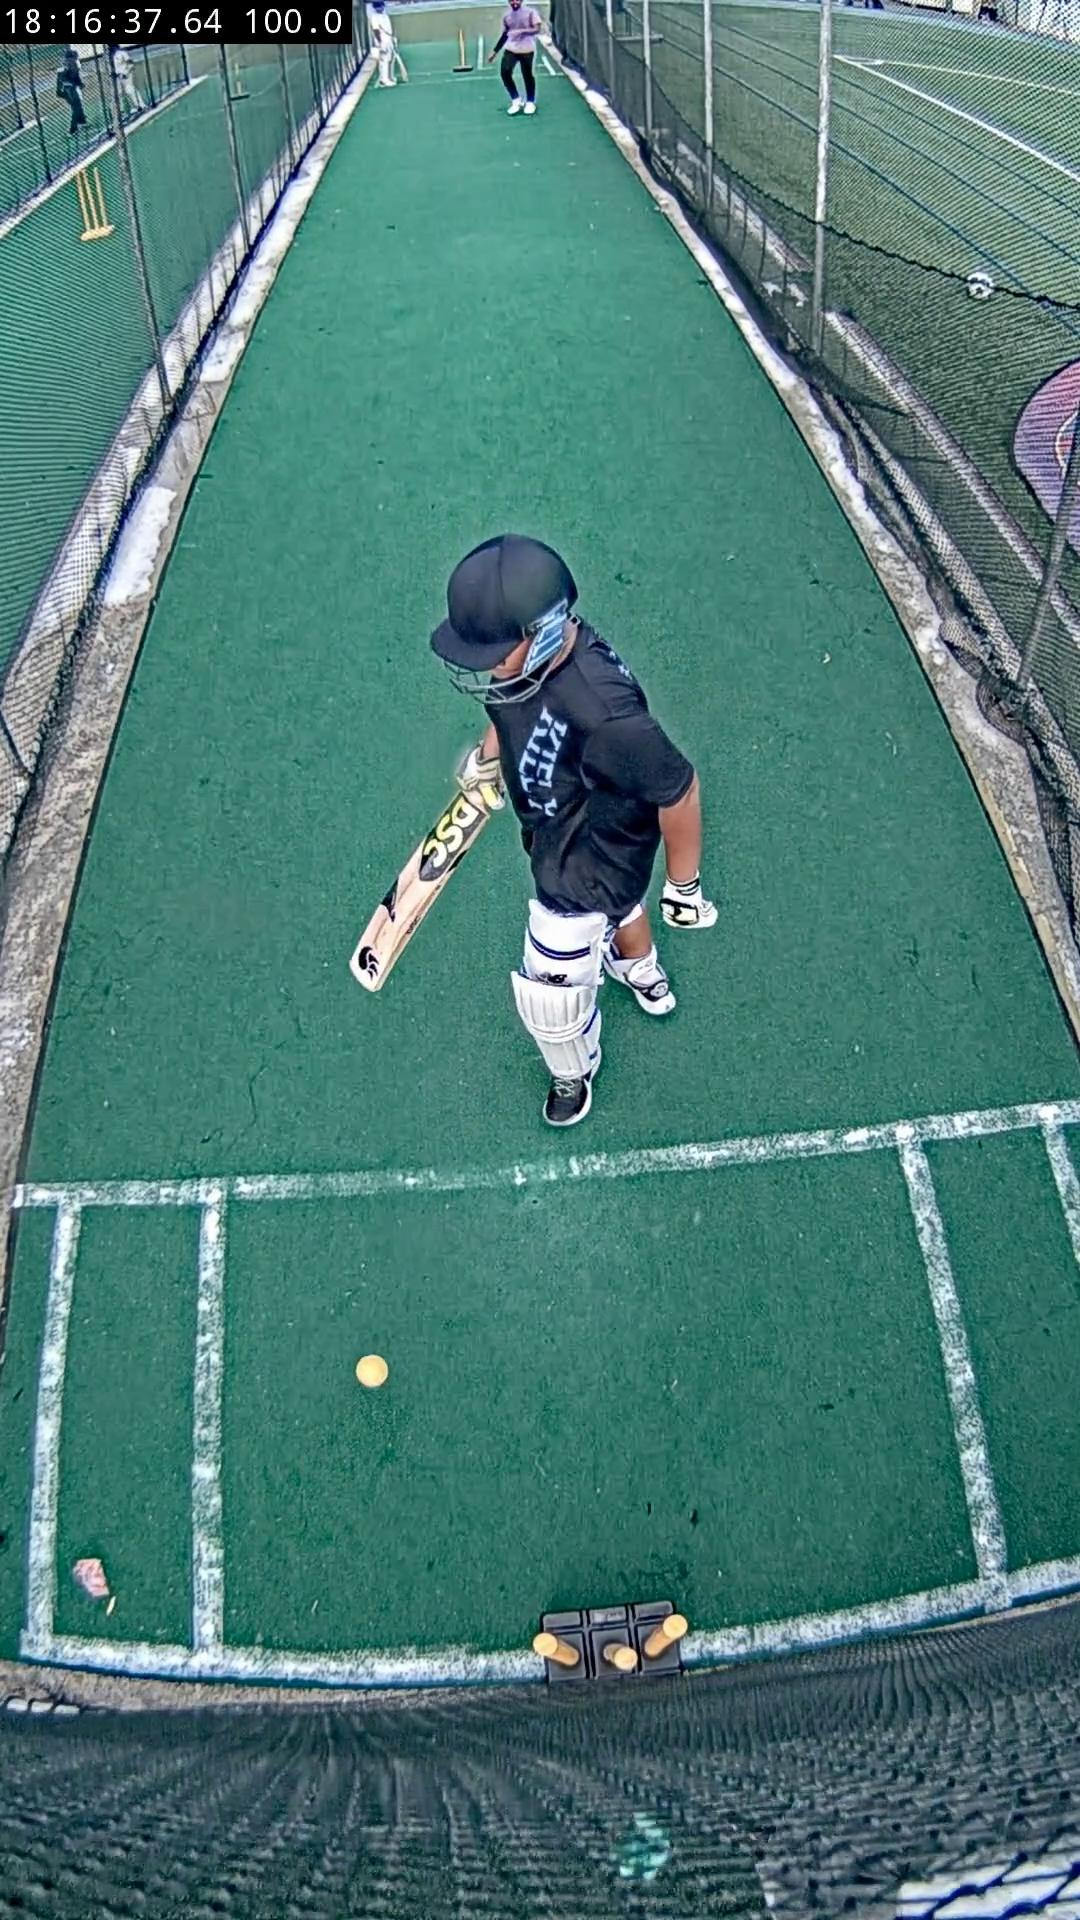ball: (356, 1354, 390, 1387)
bat: (348, 769, 506, 990)
gloves: (454, 742, 506, 810), (661, 877, 716, 930)
helmet: (431, 533, 578, 705)
pads: (510, 972, 600, 1080)
stumps: (533, 1605, 690, 1680)
